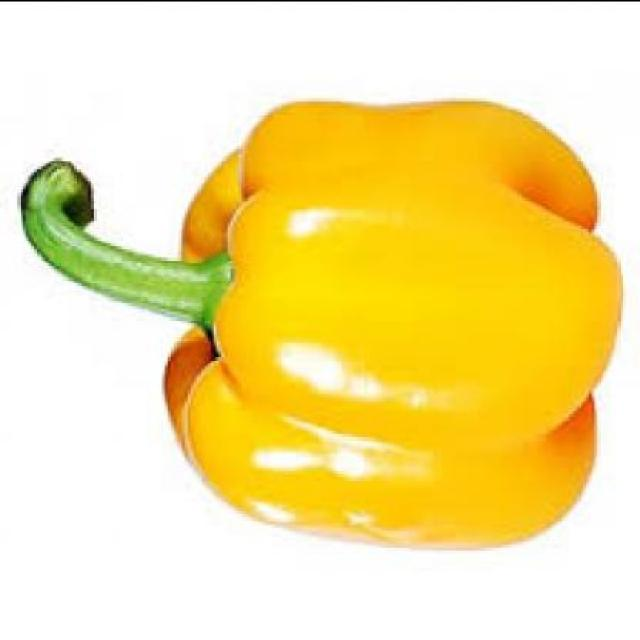BIODEGRADABLE: (17, 94, 614, 543)
